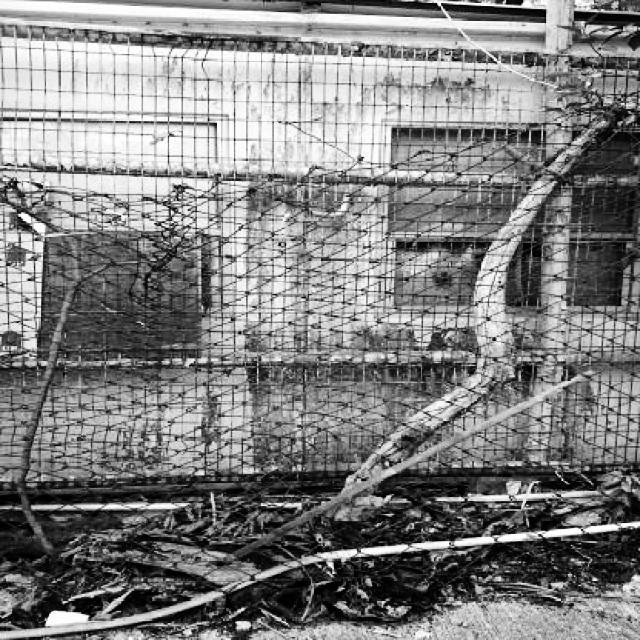fences: (6, 27, 504, 210)
